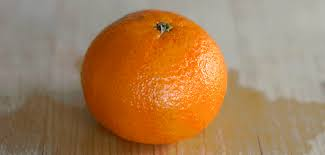orange: (76, 7, 231, 152)
